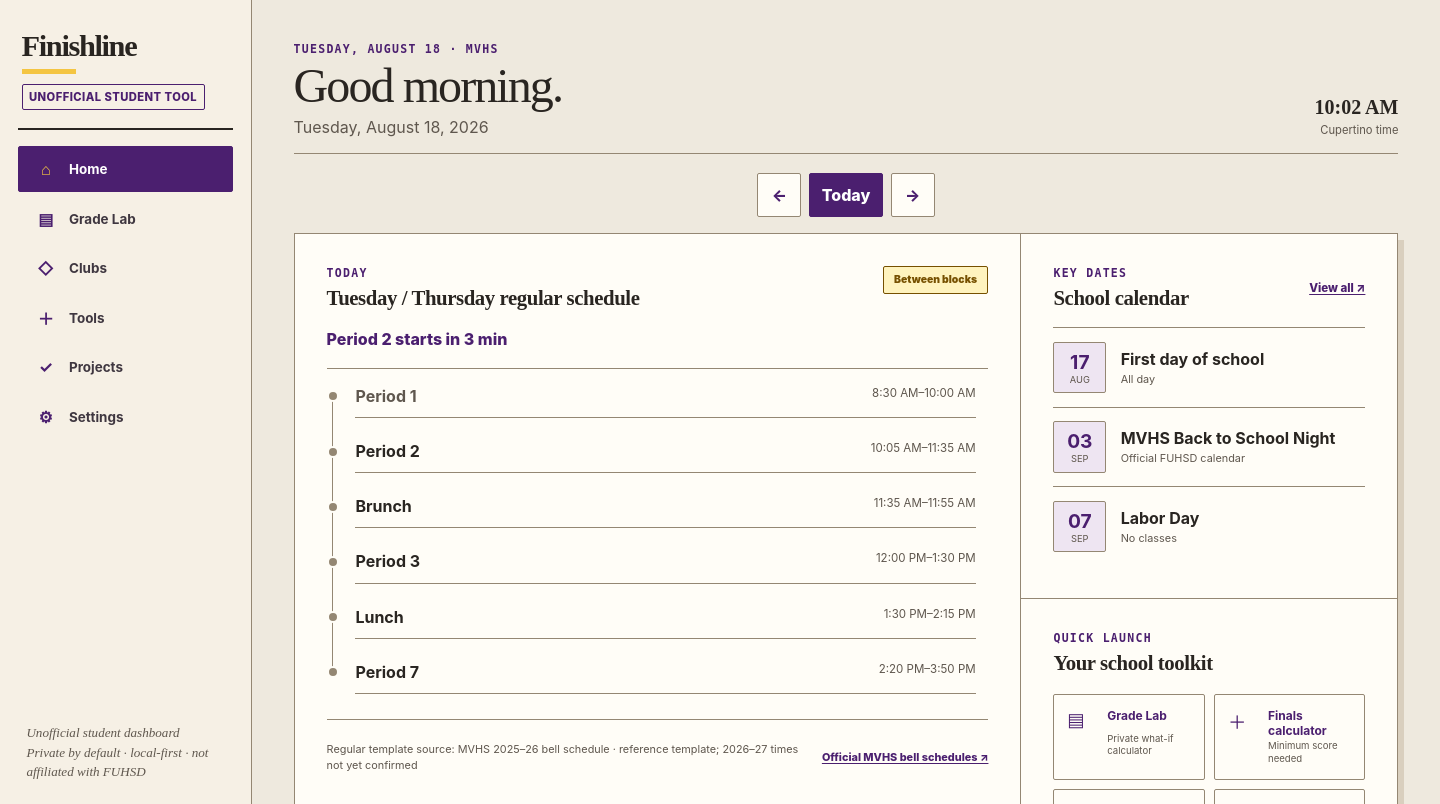
Test case: dashboard date controls browse the verified school-year schedule and return to today
The width and height of the screenshot is (1440, 804).
Click the button named "next day" at (912, 194), box left=890, top=172, right=934, bottom=216
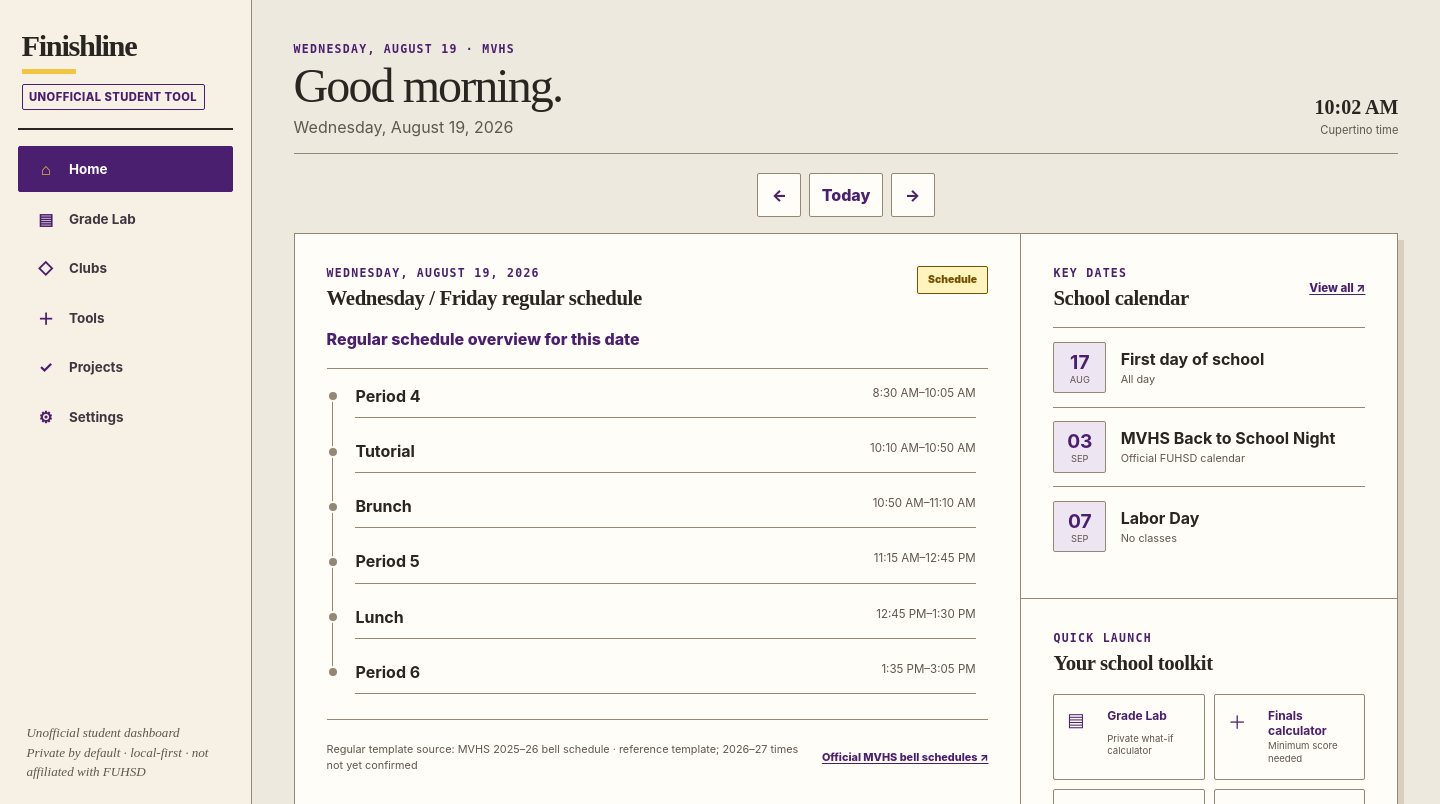
Check: the heading "Wednesday / Friday regular schedule" is shown, box left=327, top=285, right=642, bottom=311
Click the button "Today" at (846, 194), box left=809, top=172, right=883, bottom=216
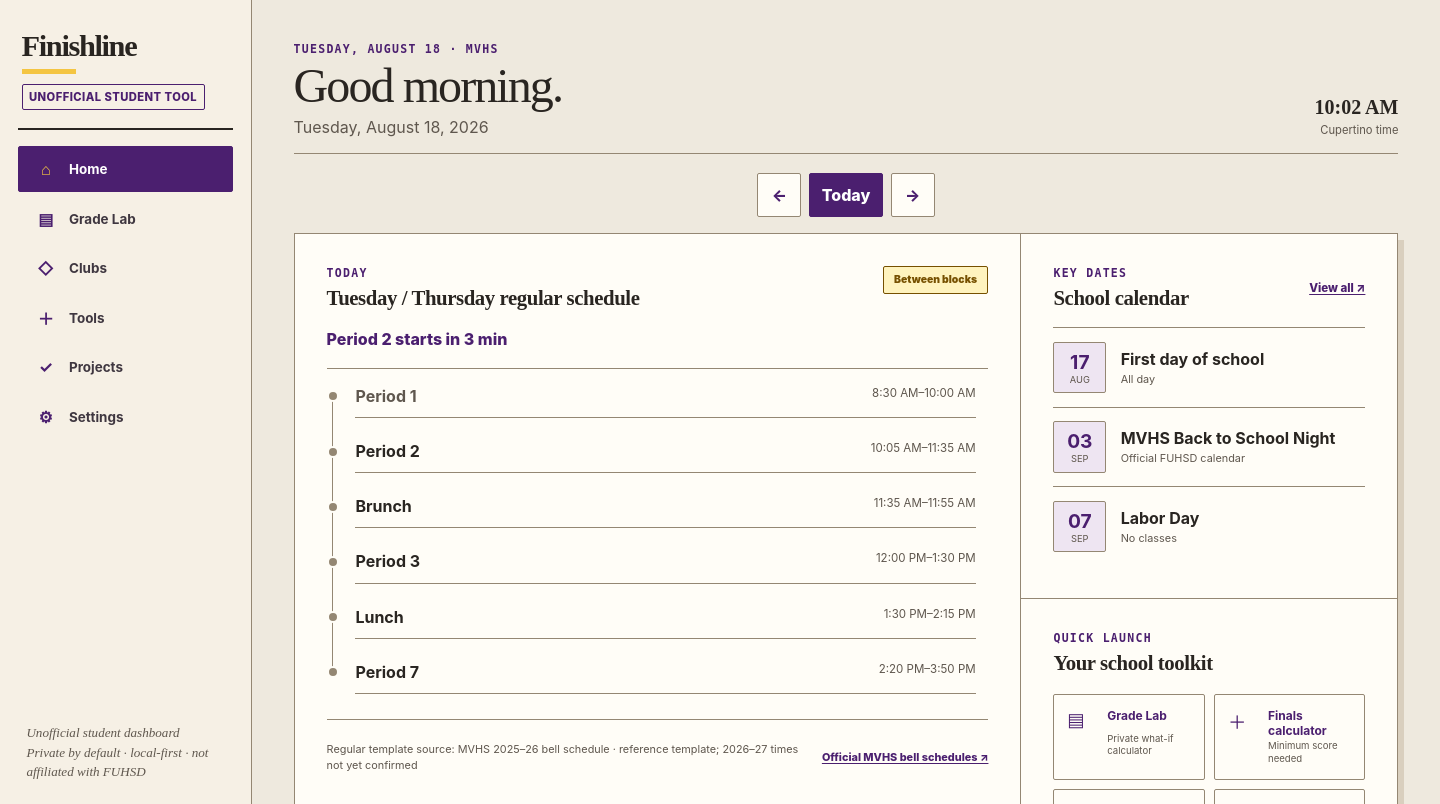
Check: the heading "Tuesday / Thursday regular schedule" is shown, box left=327, top=285, right=640, bottom=311
